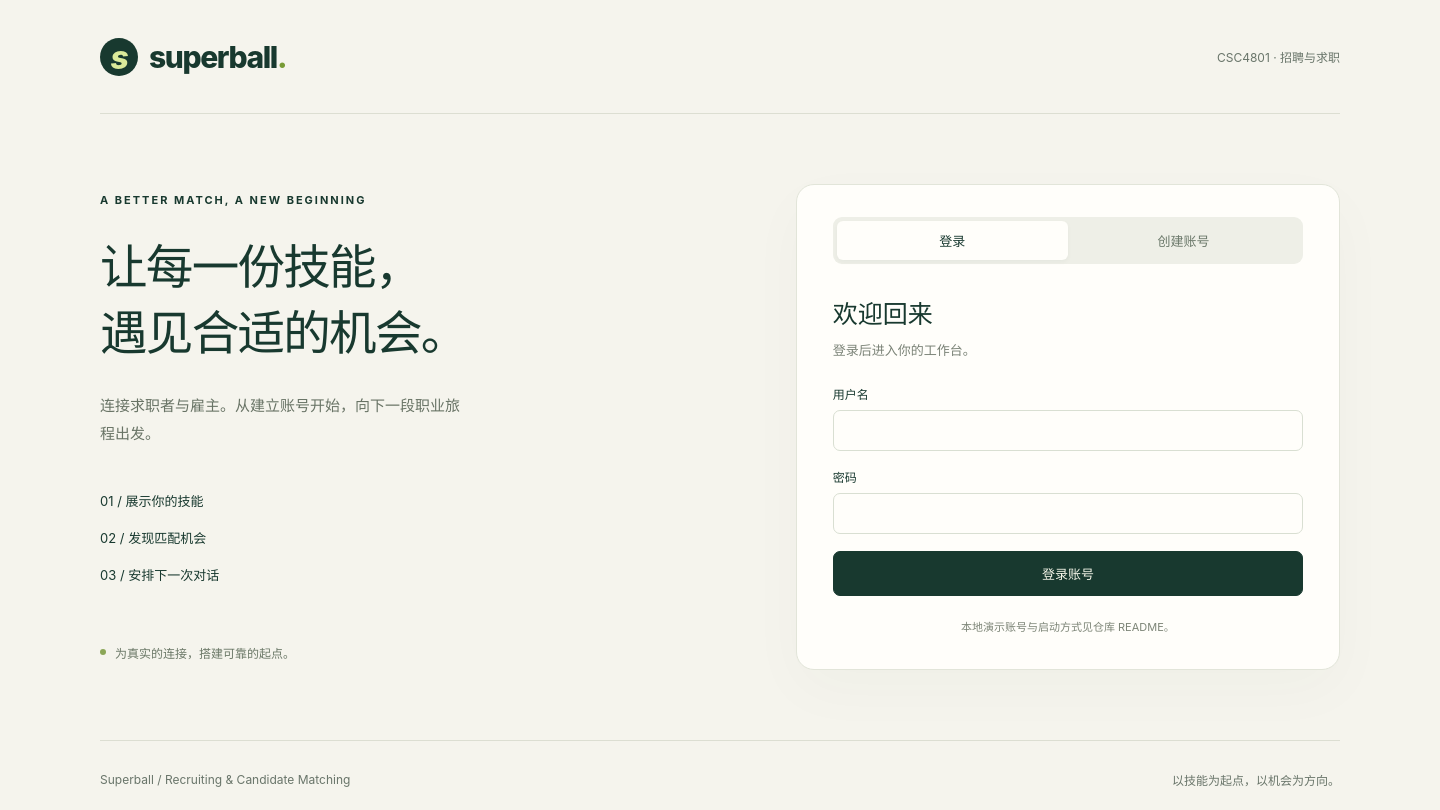
Test: shows API validation messages without losing the form
Expected: the heading "欢迎回来" is shown, [833, 299, 933, 329]
Type "alice" into the field labelled "用户名".
click(1068, 430); type("alice")  # box [833, 410, 1303, 451]
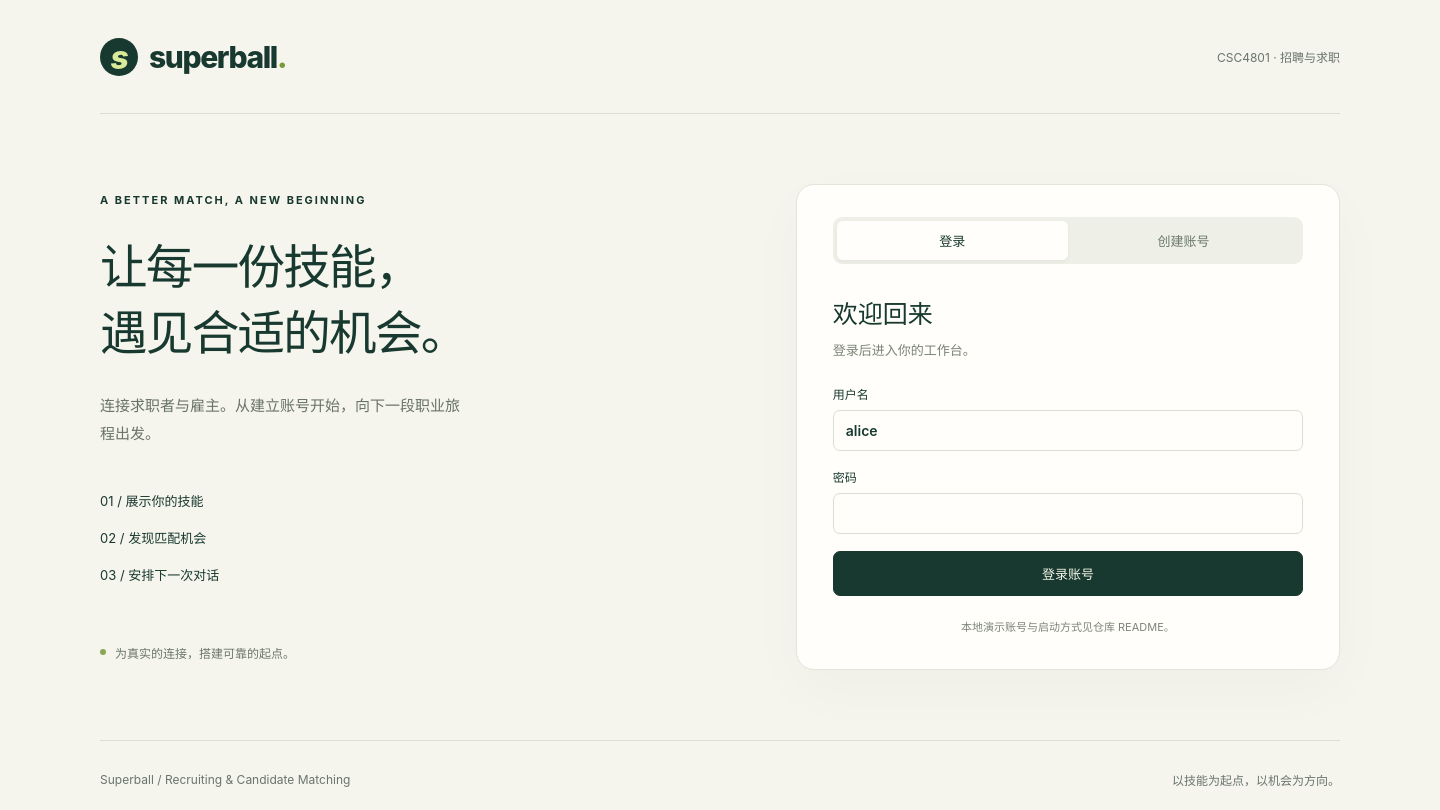
Type "wrong" into the password field labelled "密码".
click(1068, 514); type("wrong")  # box [833, 493, 1303, 534]
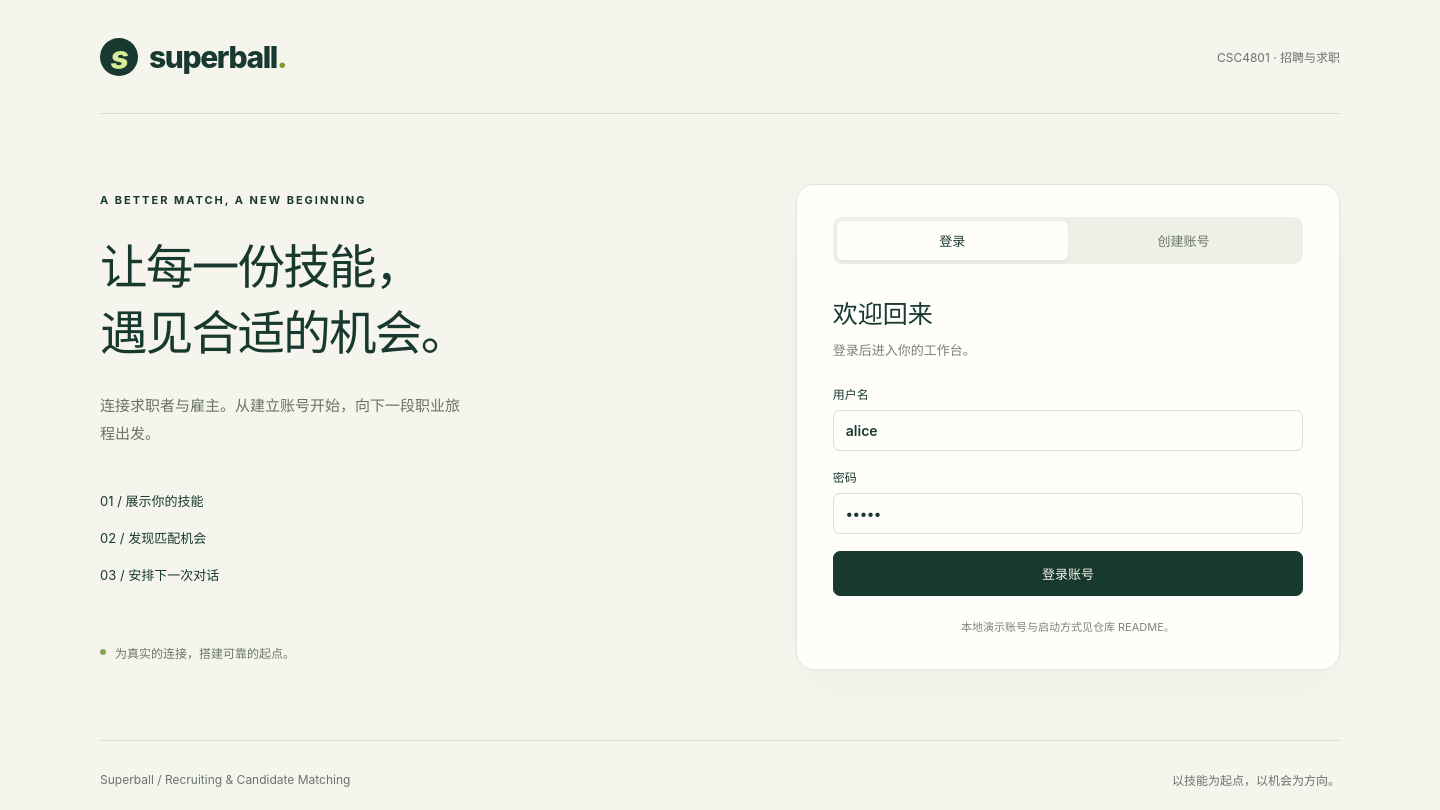
Click the button "登录账号".
click(1068, 574)  # box [833, 551, 1303, 596]
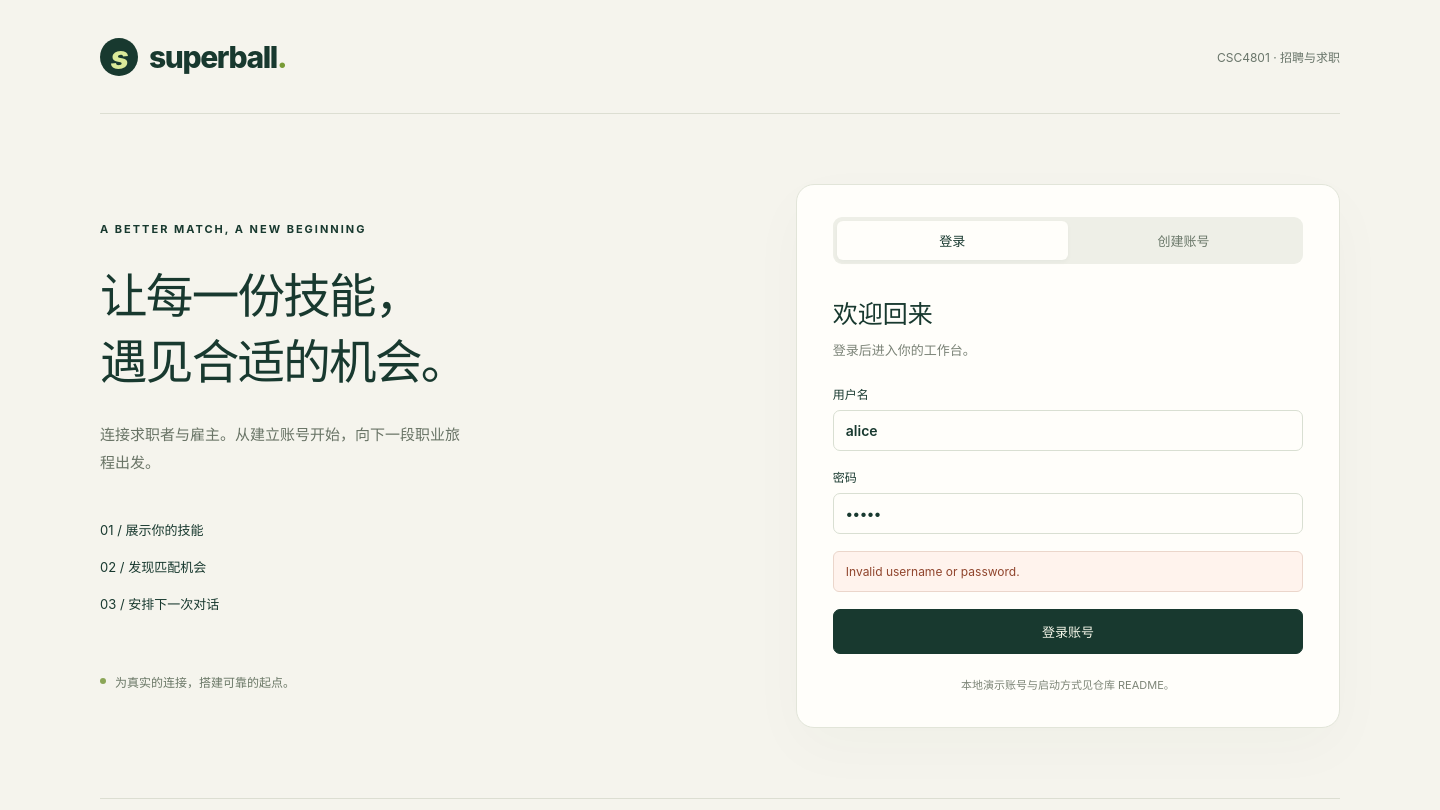
Expected: the button "登录账号" is enabled, [833, 609, 1303, 654]
Expected: the message reads "Invalid username or password.", [846, 564, 1020, 579]
